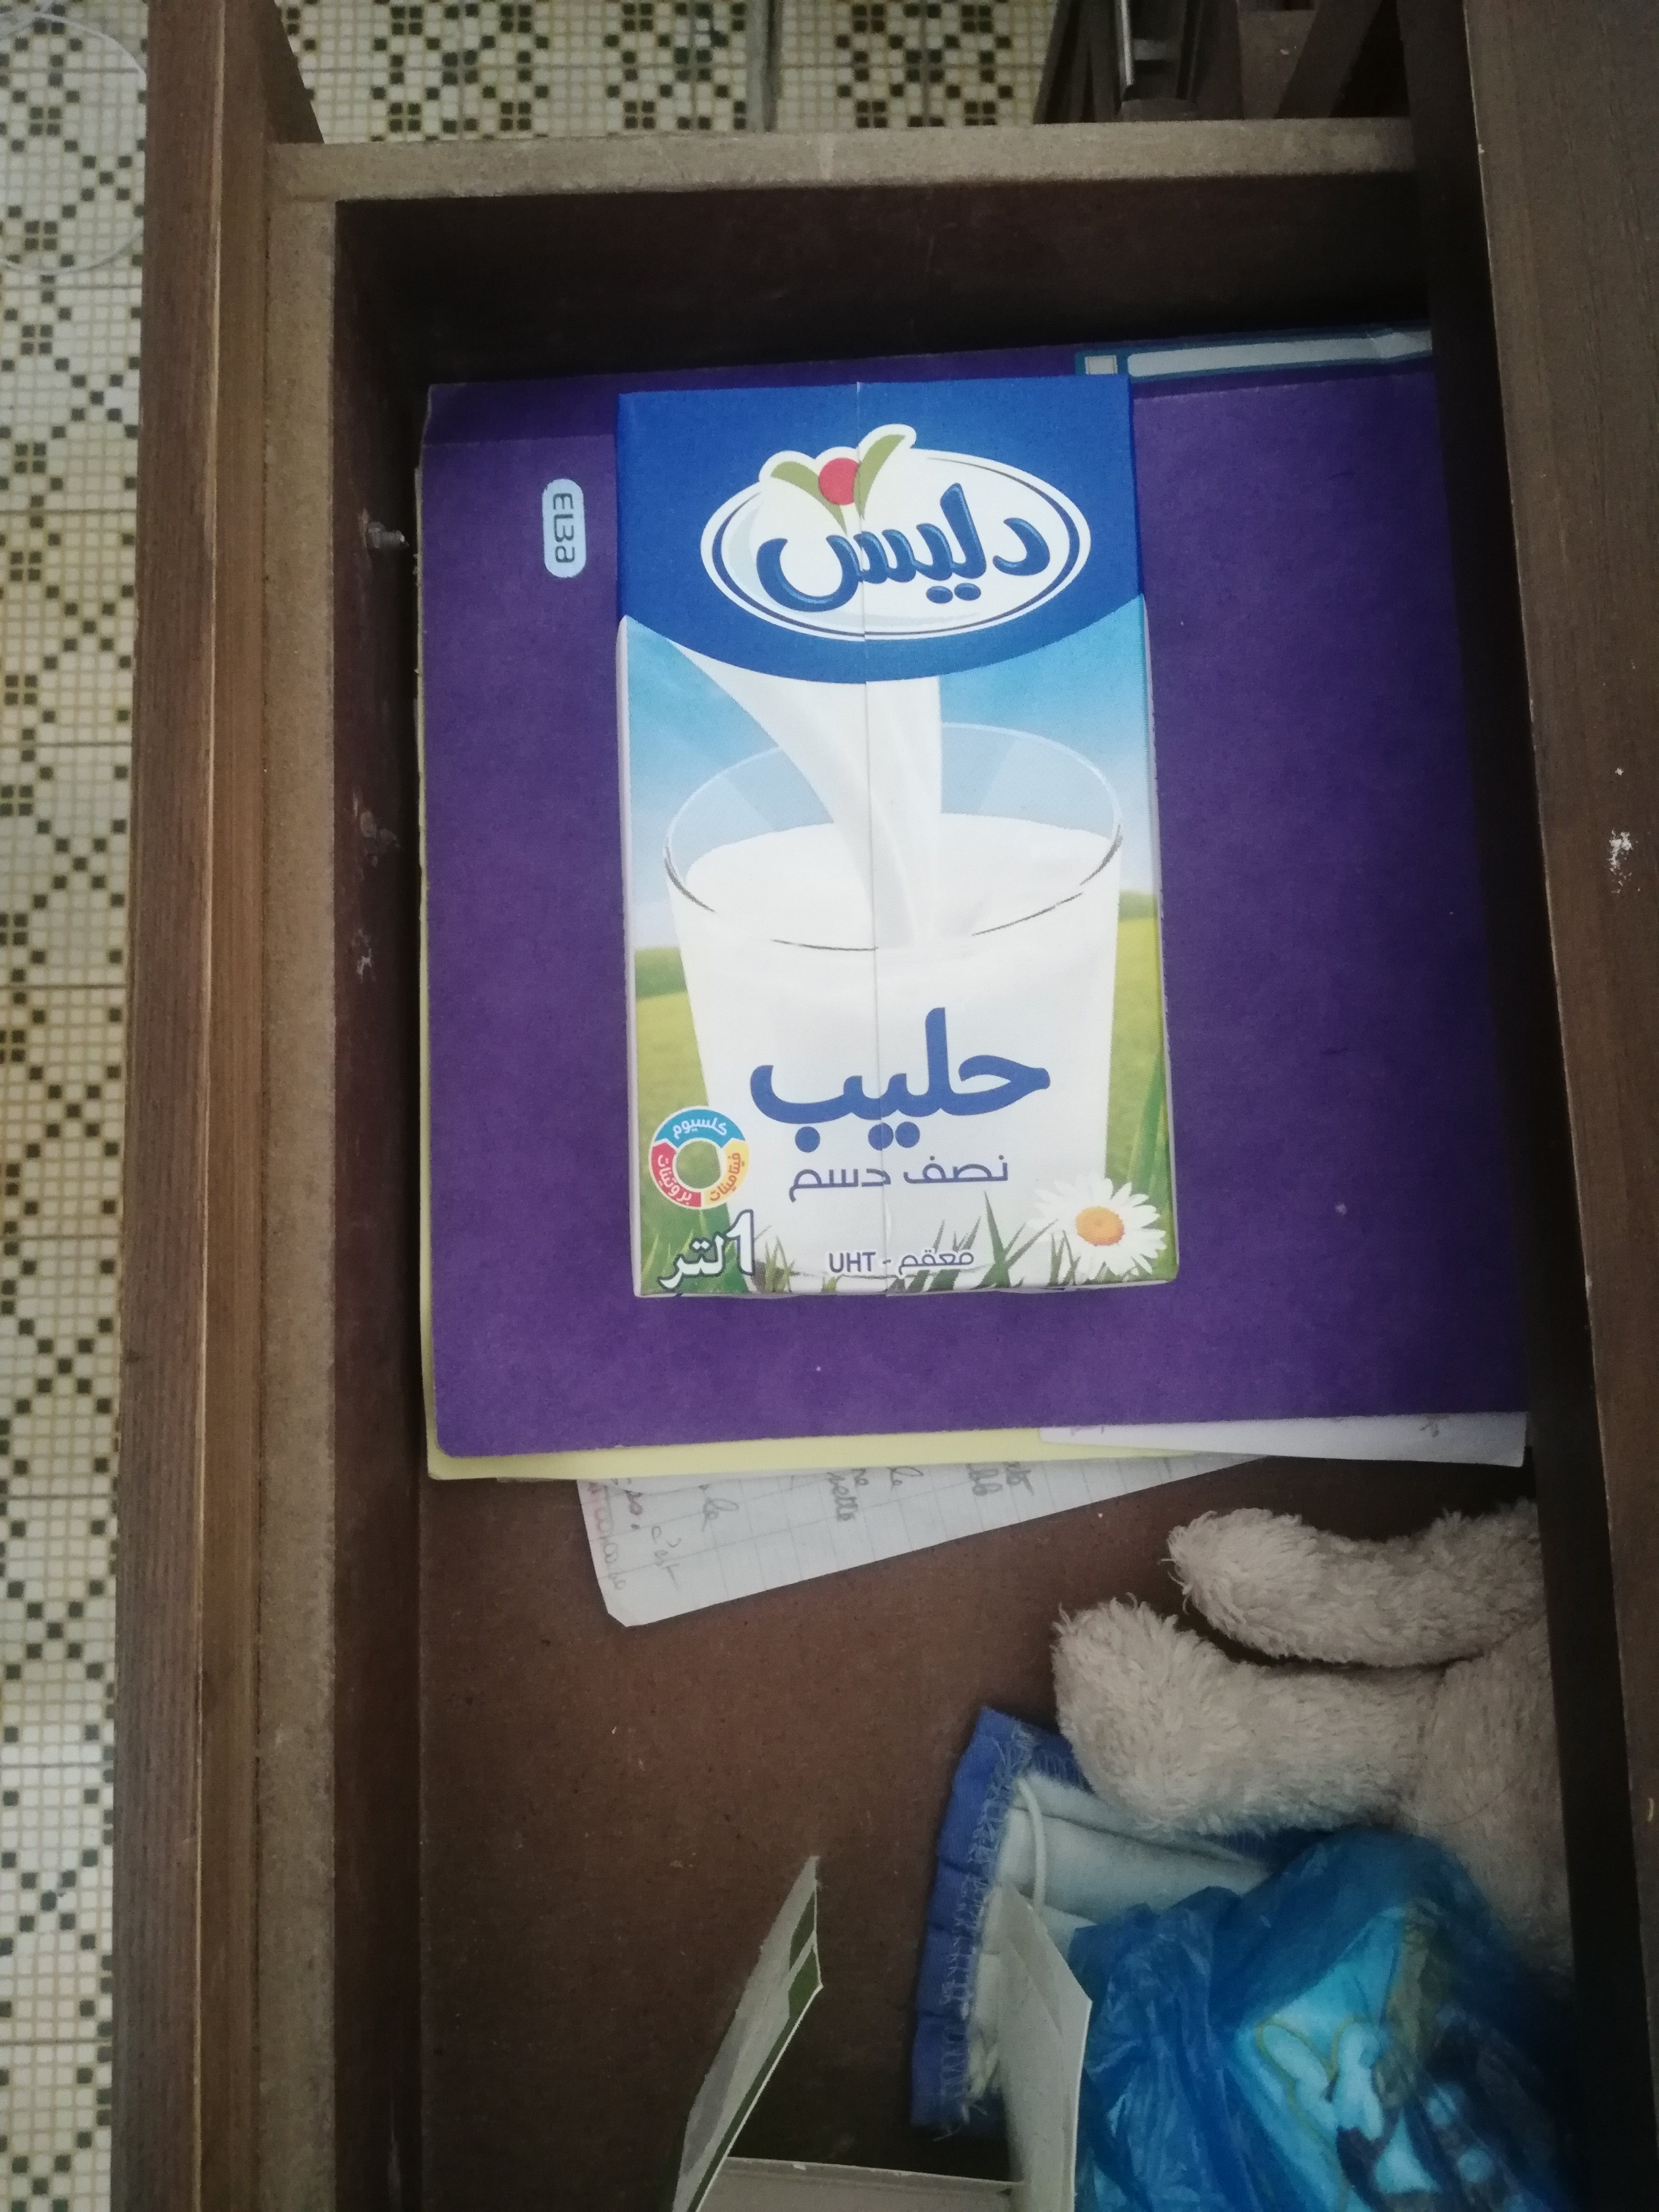Lait delice: (617, 381, 1182, 1301)
